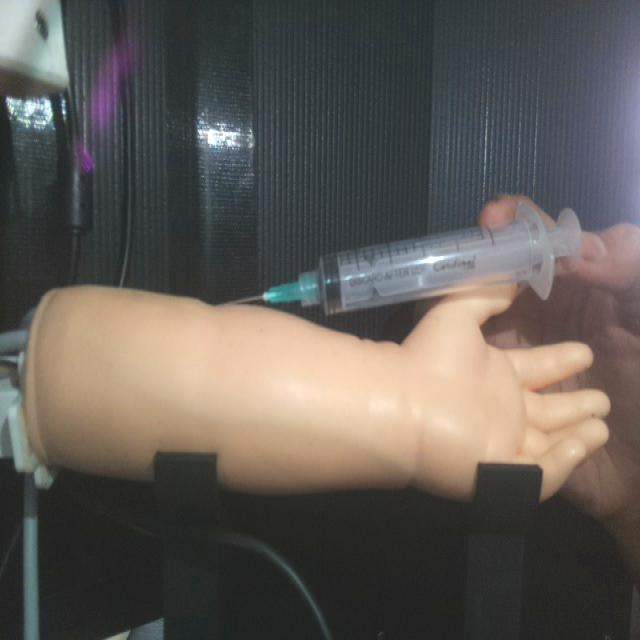Below 15 degrees: (226, 196, 584, 317)
